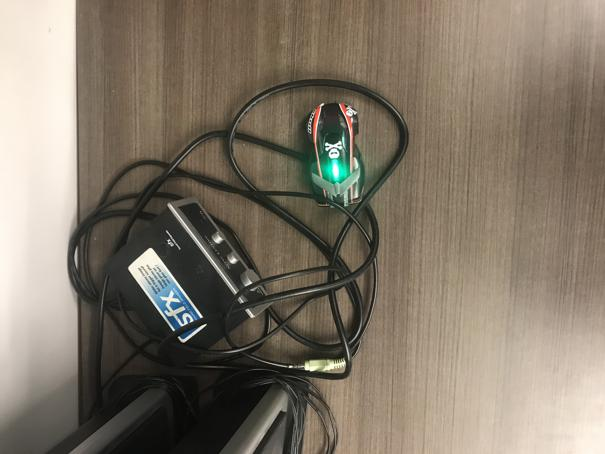Skull: (304, 102, 365, 207)
